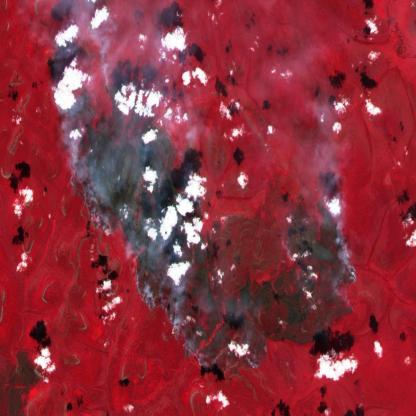fire: (62, 89, 262, 387), (320, 214, 360, 310)
